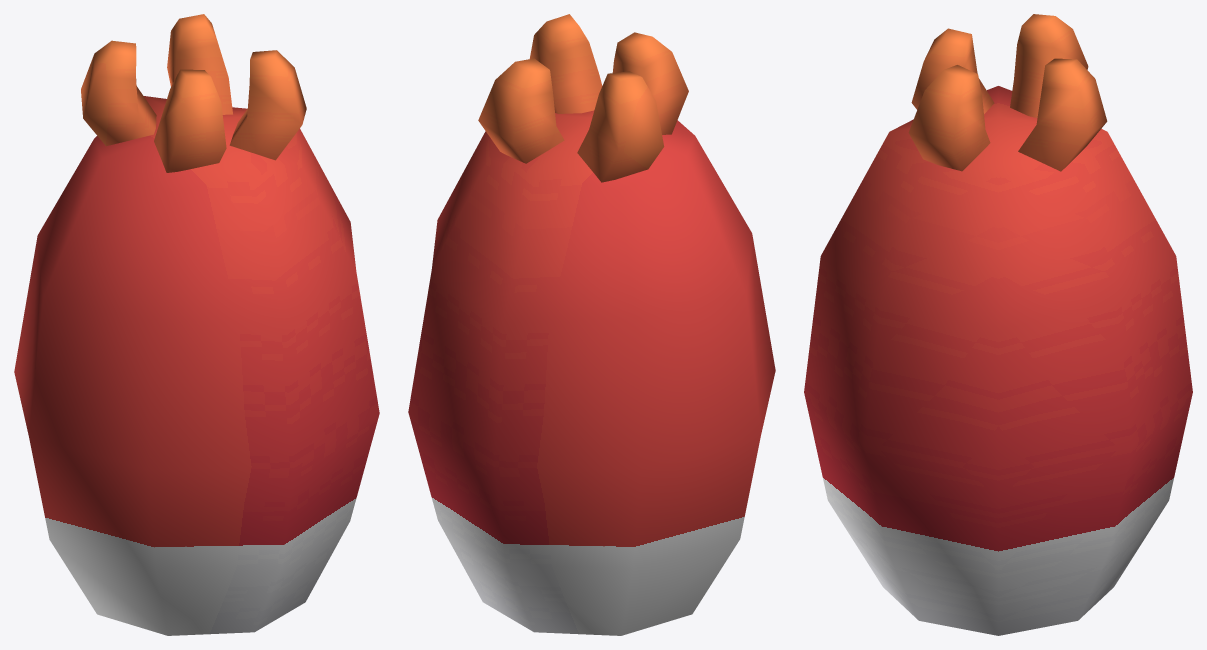
File: D_CoralReef.002.glb
The picture shows the model from 3 angles, left to right: view 1: azimuth 30°, elevation 25°; view 2: azimuth 150°, elevation 25°; view 3: azimuth 270°, elevation 25°; orthographic projection.
Parts seen in each view (by area): view 1: D_CoralReef.002; view 2: D_CoralReef.002; view 3: D_CoralReef.002.
Boxes of the visible parts, left/top/right/bottom form: D_CoralReef.002: left=14, top=14, right=379, bottom=635; D_CoralReef.002: left=408, top=14, right=775, bottom=635; D_CoralReef.002: left=804, top=14, right=1192, bottom=635.
Bounding box in the file's own units: 0.234 × 0.3607 × 0.234.
Materials: 1 (1 with a texture image).
